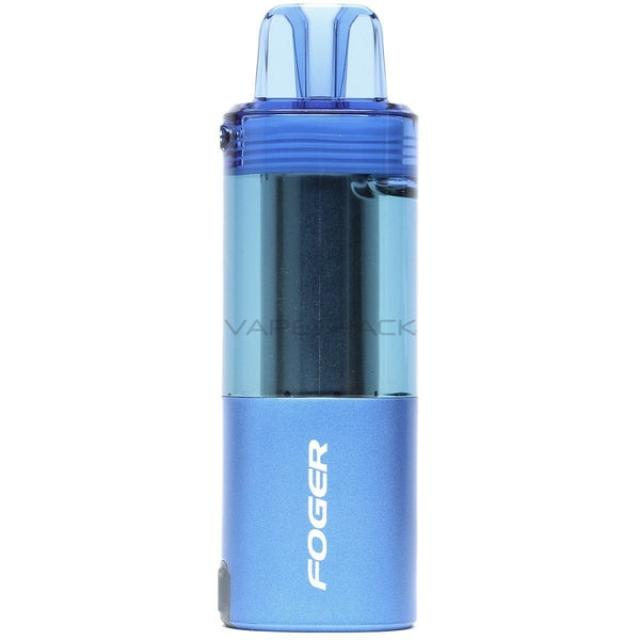Vapes: (216, 1, 420, 633)
